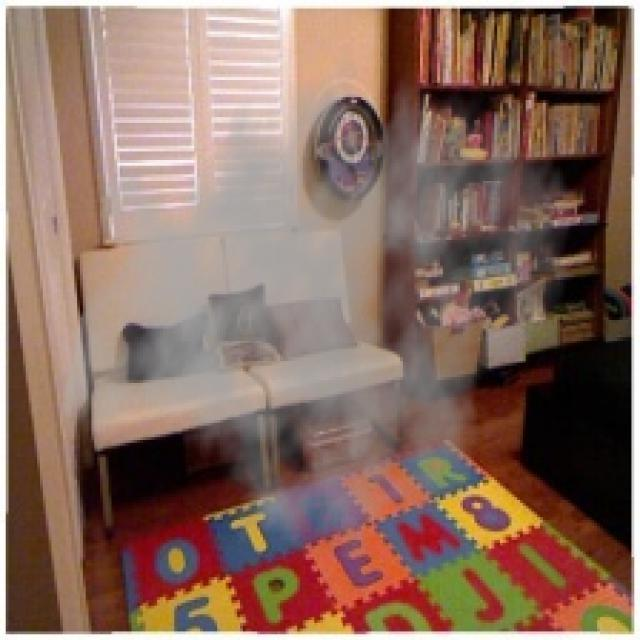Smoke: (59, 23, 574, 566)
